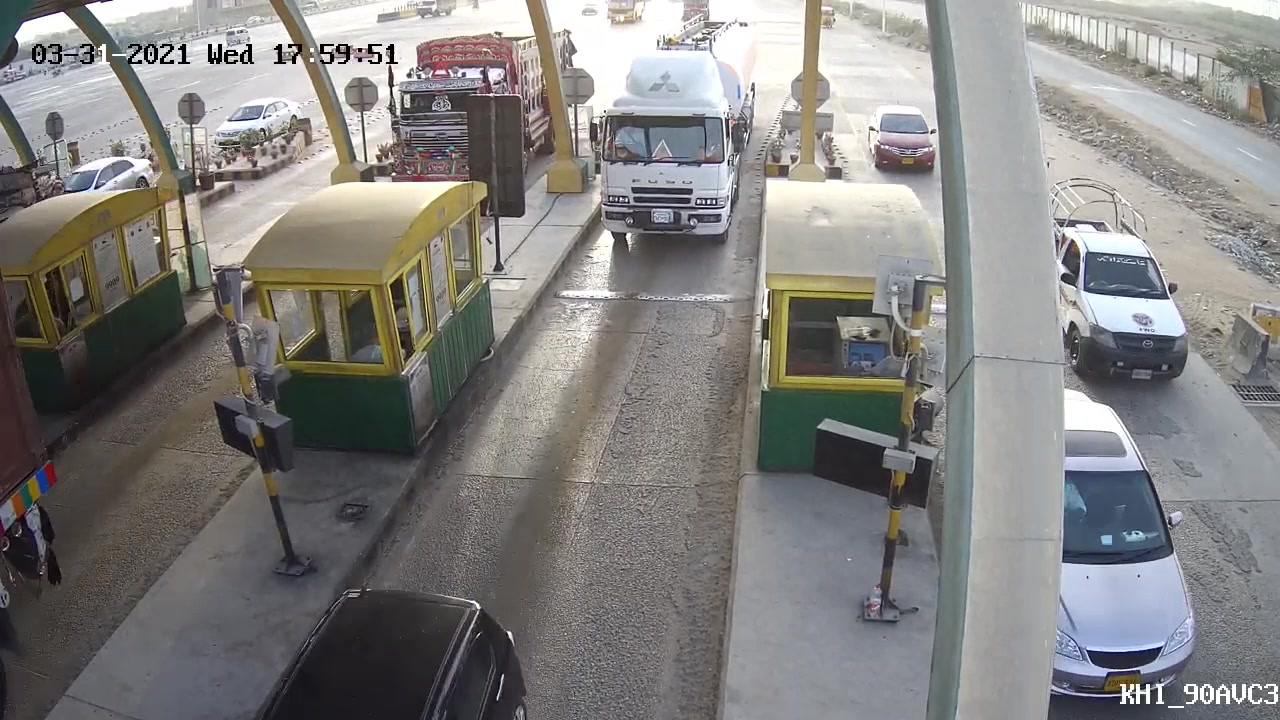F6: (587, 12, 770, 250)
